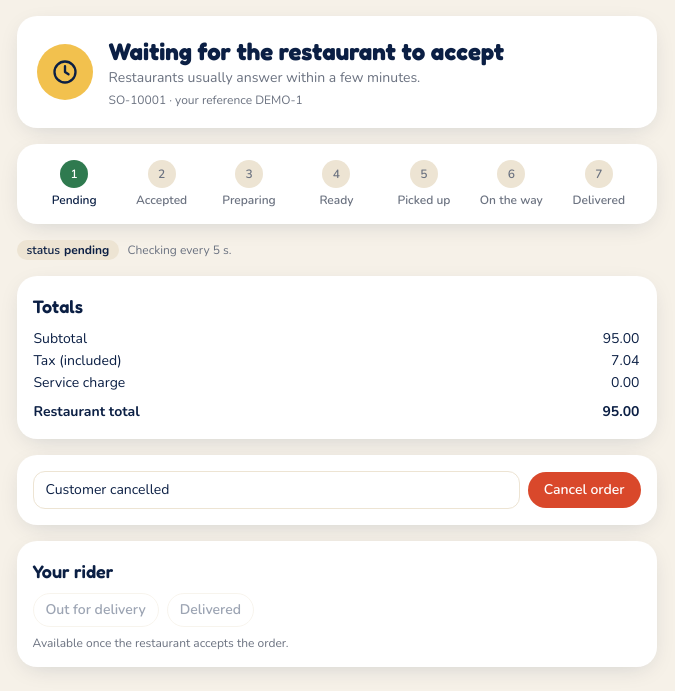
Test: OrderPage › cancels a pending order with the reason and one idempotency key, and shows the result
Check: the text "pending" is shown, box top-left (64, 242), bottom-right (109, 258)
Check: the heading with test id "status-title" reads "Waiting for the restaurant to accept", box top-left (108, 37), bottom-right (504, 66)
Click the button "Cancel order" at (584, 490), box top-left (528, 472), bottom-right (640, 508)
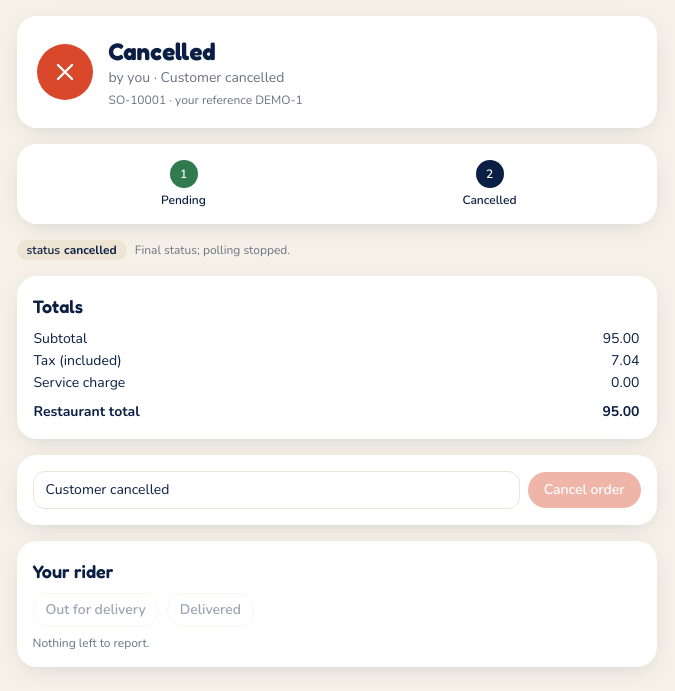
Check: the text with test id "order-status" reads "cancelled", box top-left (64, 242), bottom-right (117, 258)
Check: the text "Final status; polling stopped." is shown, box top-left (135, 242), bottom-right (290, 258)
Check: the heading with test id "status-title" reads "Cancelled", box top-left (108, 37), bottom-right (216, 66)
